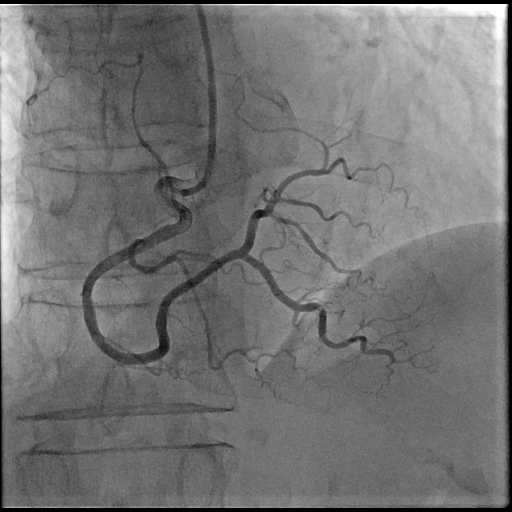RCA: (82, 162, 393, 365)
catherter: (180, 6, 217, 196)
